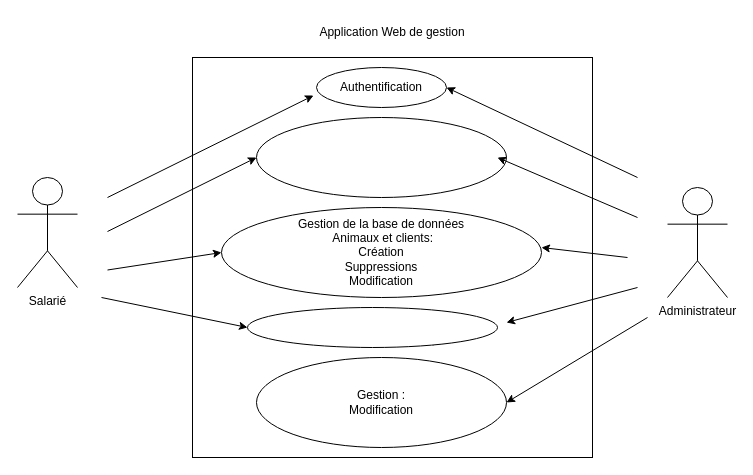
Some shapes in this 753 by 475 pixel diagram are drawn without their labels. Each missing label, with the centre of its shape:
Consultation des reporting: (x=372, y=327)
Gestion des RDV Clients : Création Suppression Modifications: (x=381, y=157)
